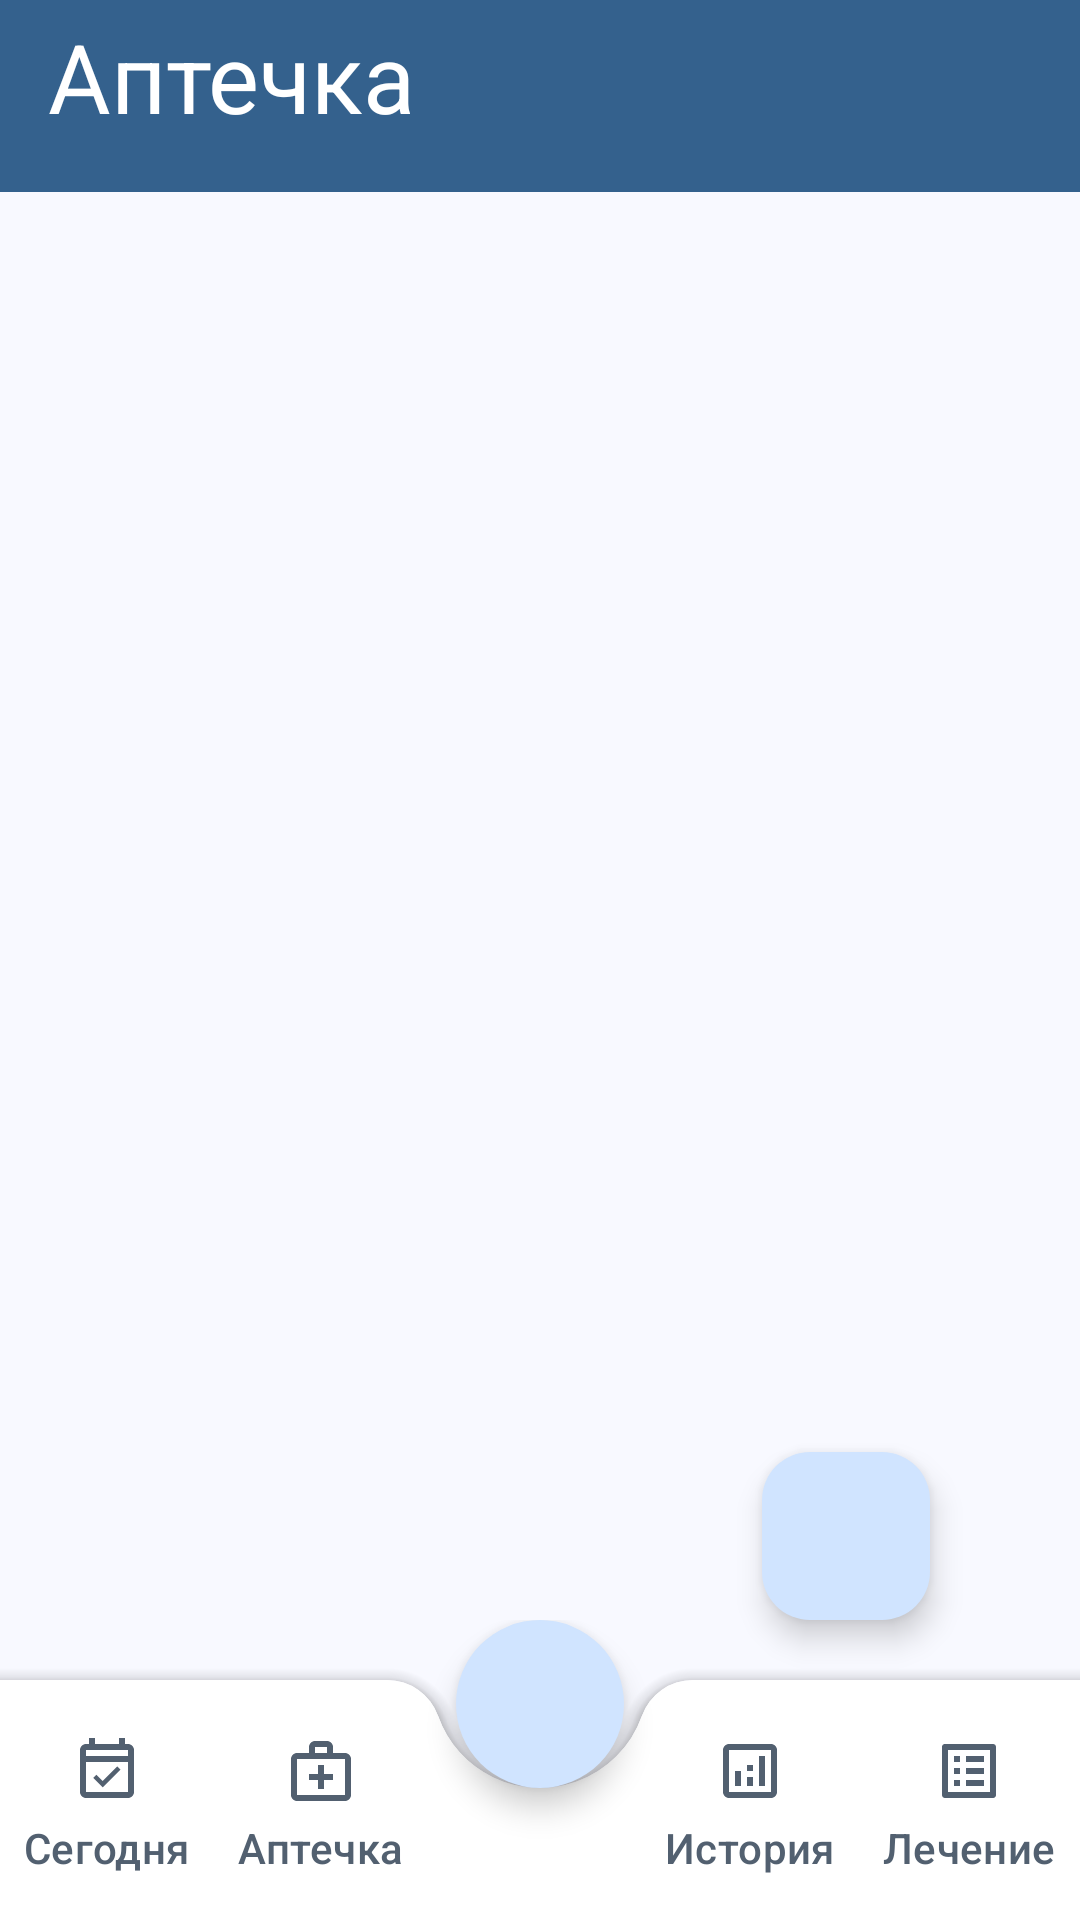

Screen size 1080w x 1920h. Icon name, then its center in pixels as (x=x, y=y):
analytics: (x=750, y=1771)
event available: (x=107, y=1768)
list: (x=969, y=1771)
medical services: (x=321, y=1771)
